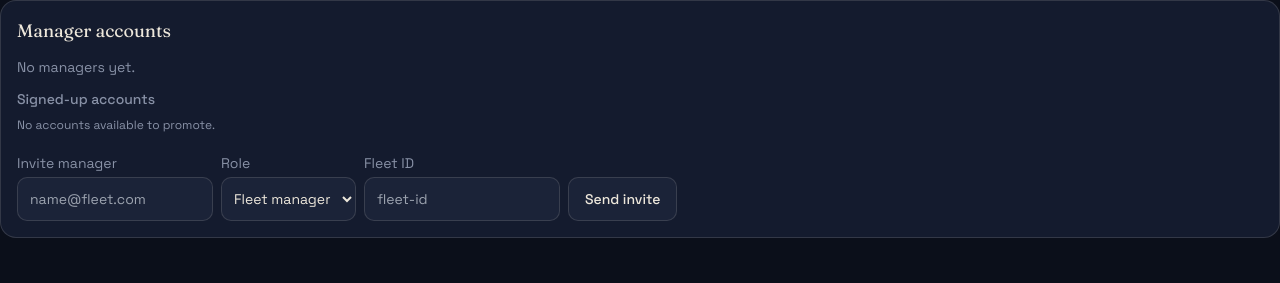
Test: ManagerList (real mode — Supabase env vars configured) › promotes a target to admin as an admin caller with no fleet ID entered, passing fleetId: null and showing success
Select "Admin" in the dropdown labelled "Role" at (288, 199), box [221, 177, 356, 221]
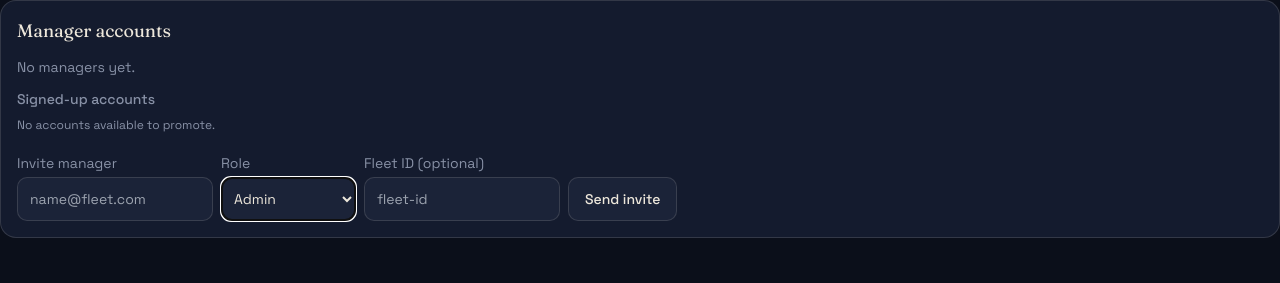
Type "newadmin@fleet.com" into the field labelled "Invite manager" at (115, 199), box [17, 177, 213, 221]
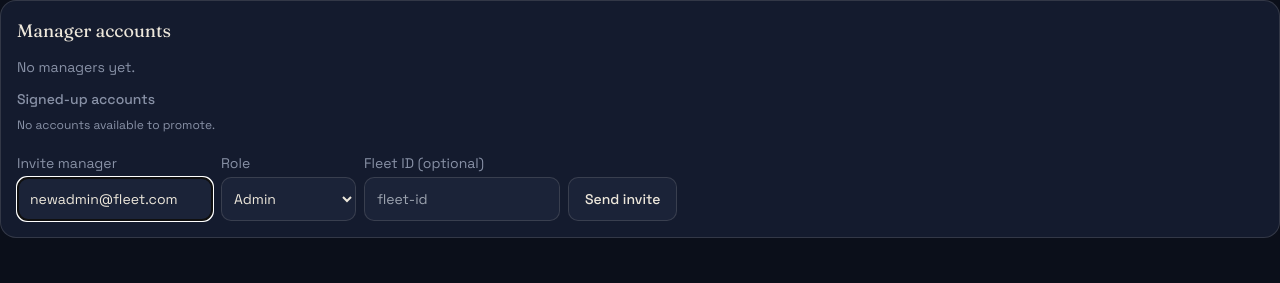
Click the button "Send invite" at (623, 199), box [568, 177, 677, 221]
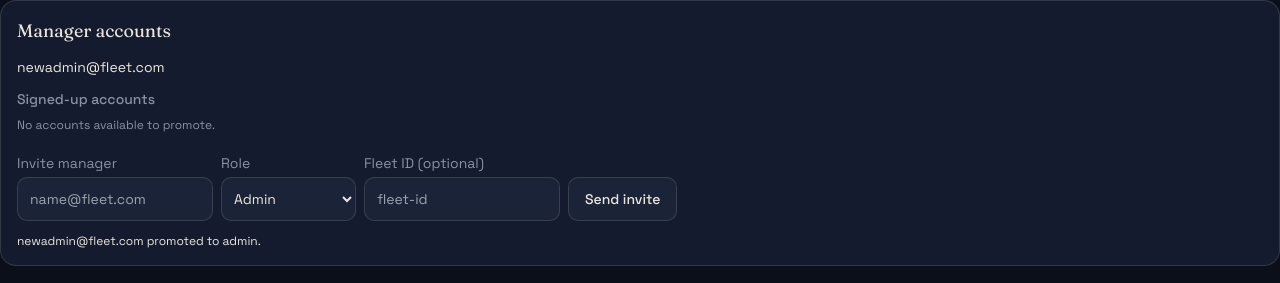
Now the text "newadmin@fleet.com promoted to admin." is shown, box [17, 233, 261, 249]
